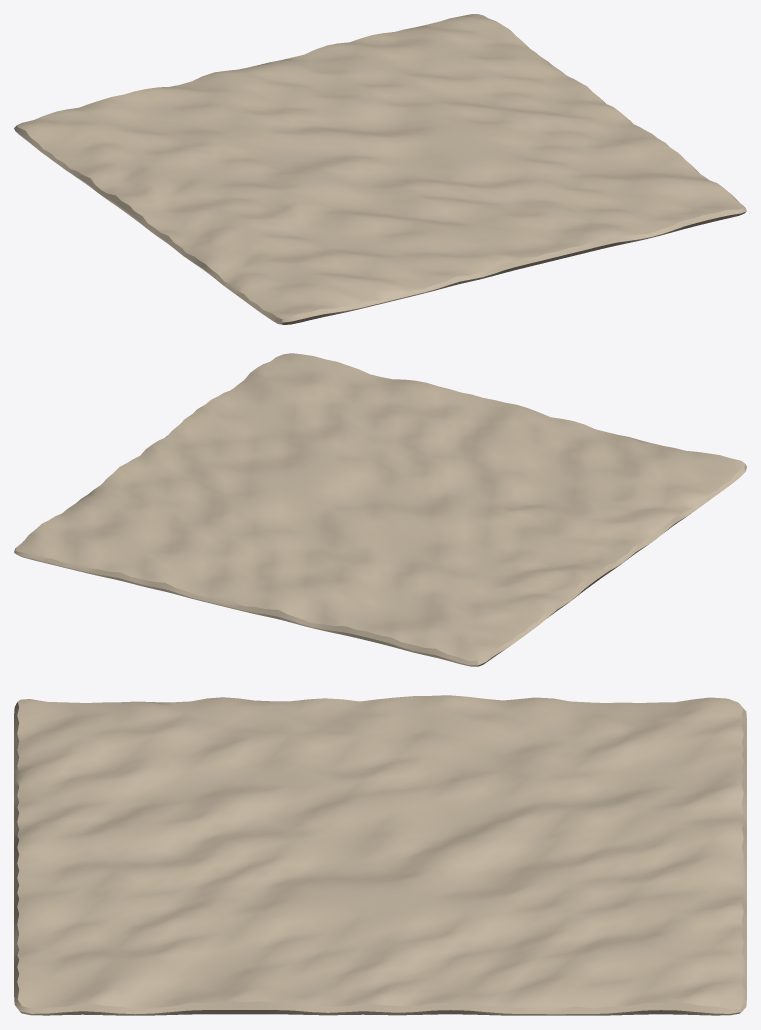
File: ground2.glb
3 renders of one model, top to bottom at view 1: azimuth 30°, elevation 25°; view 2: azimuth 150°, elevation 25°; view 3: azimuth 270°, elevation 25°, orthographic. The views are drawn at different scales.
Parts seen in each view (by area): view 1: Plane.001; view 2: Plane.001; view 3: Plane.001.
Boxes of the visible parts, x1=… form: Plane.001: x1=14, y1=14, x2=746, y2=324; Plane.001: x1=14, y1=353, x2=746, y2=666; Plane.001: x1=14, y1=695, x2=746, y2=1015.
Size of the model in its own units: 4.98 by 0.1425 by 4.98.
